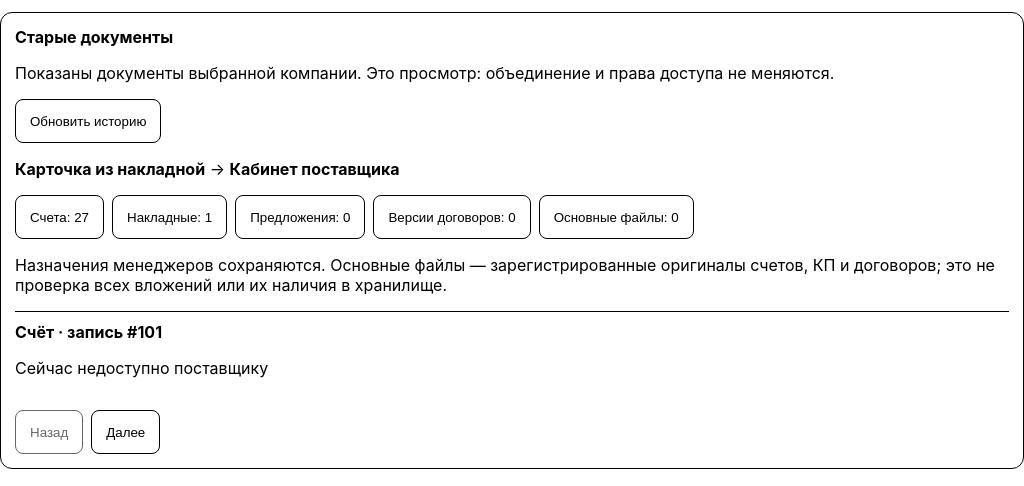
Test: shows exact company history and current access with paging, without a grant button
Expected: the text "Сейчас недоступно поставщику" is shown, [15,358,268,378]
Click the button "Далее". click: (126, 432)
box: [91,410,160,454]
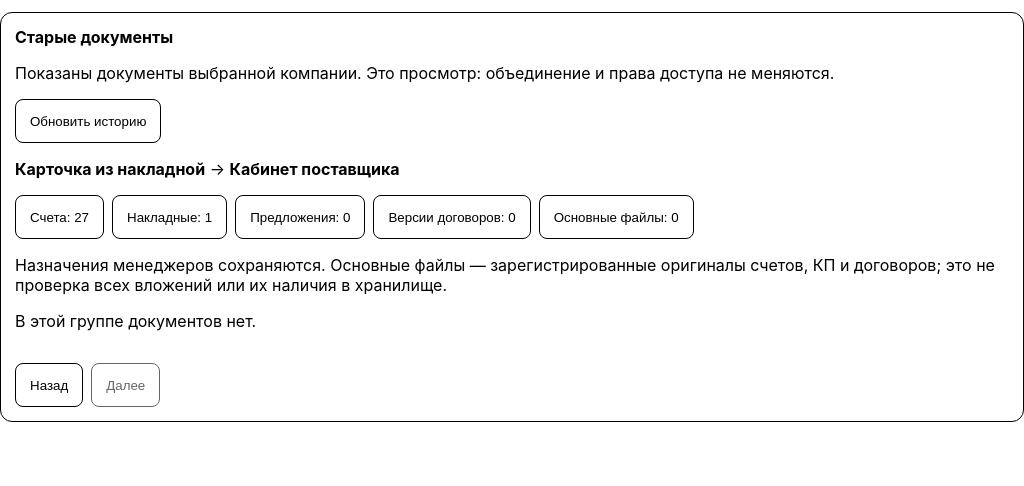
Now the text "В этой группе документов нет." is shown, box [15,311,256,331]
